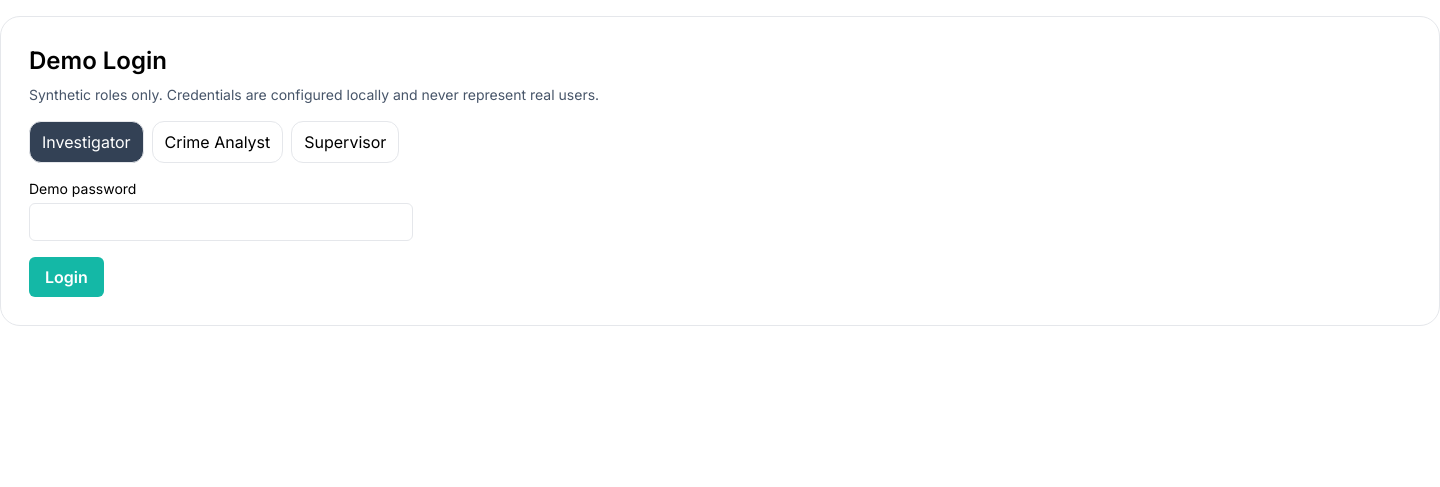
Test: shows denial/error state
This screenshot has width=1440, height=487.
Step 1. Type "demo" into the password field labelled "Demo password" → (221, 222), box top-left (29, 203), bottom-right (413, 241)
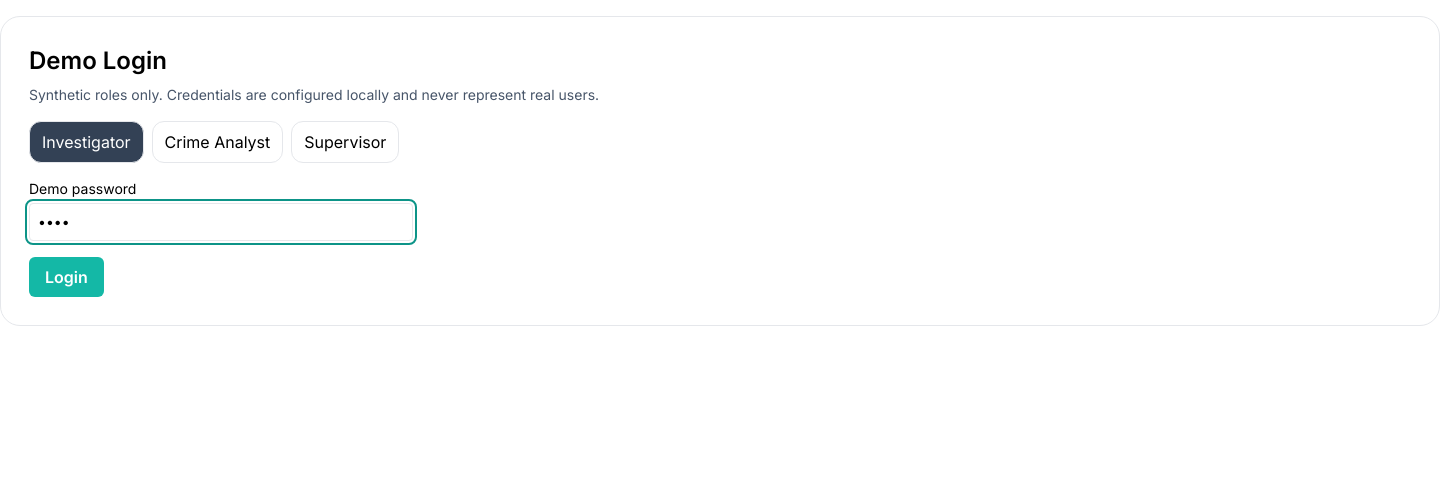
Step 2. Click the button "Login" → (66, 277), box top-left (29, 257), bottom-right (104, 297)
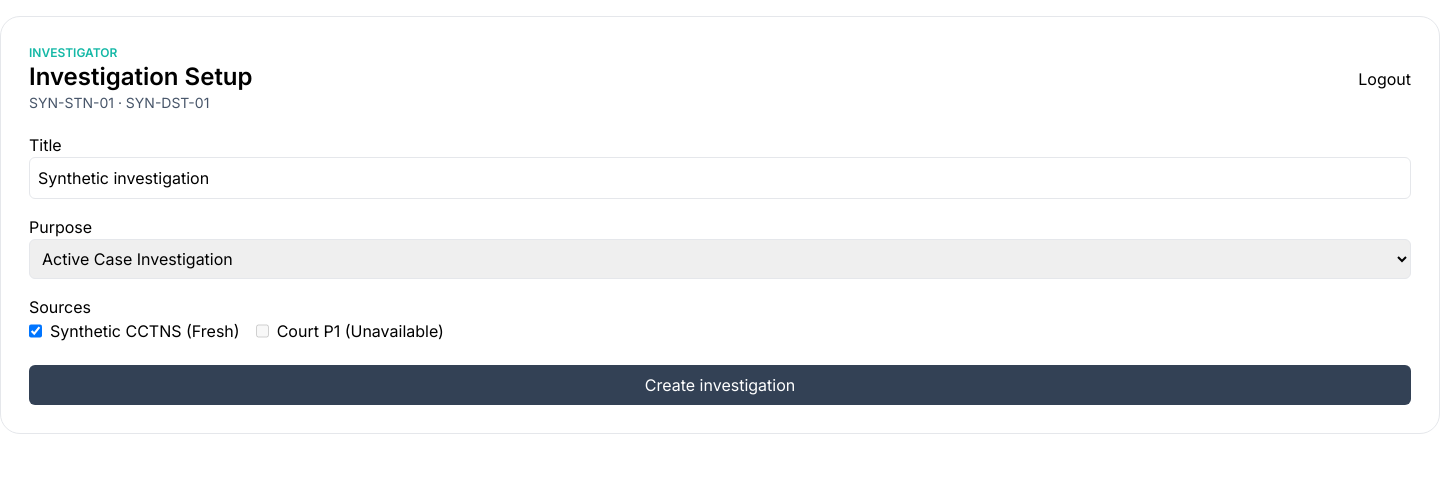
Expected: the text "INVESTIGATOR" is shown, top-left (29, 45), bottom-right (117, 60)
Step 3. Click the button "Create investigation" → (720, 385), box top-left (29, 365), bottom-right (1411, 405)
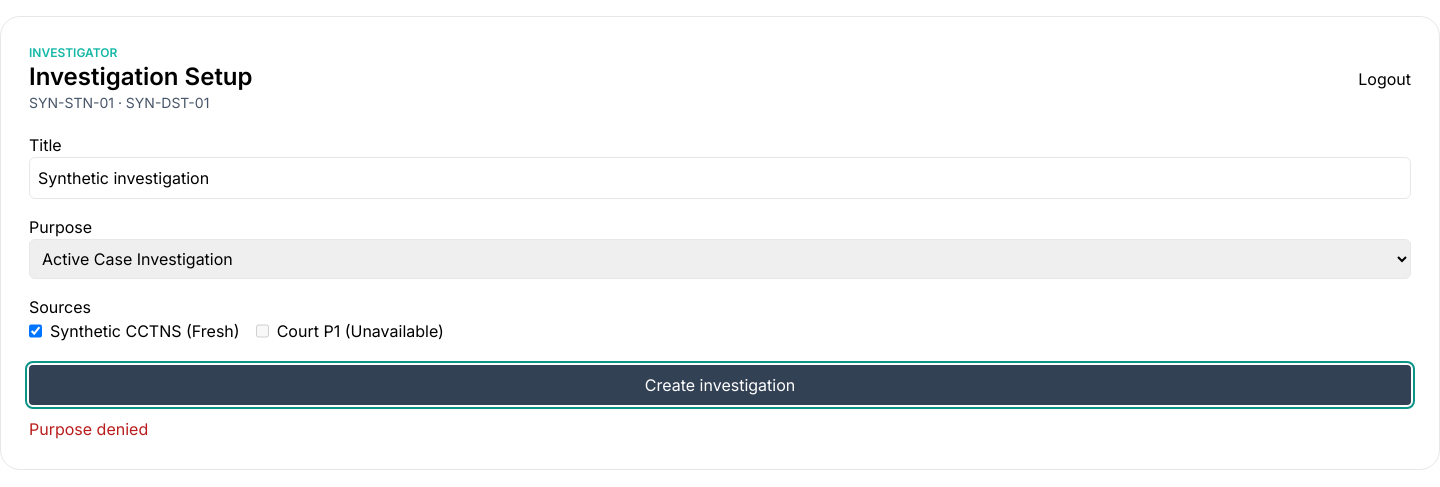
Now the message reads "Purpose denied", box top-left (29, 419), bottom-right (148, 439)
